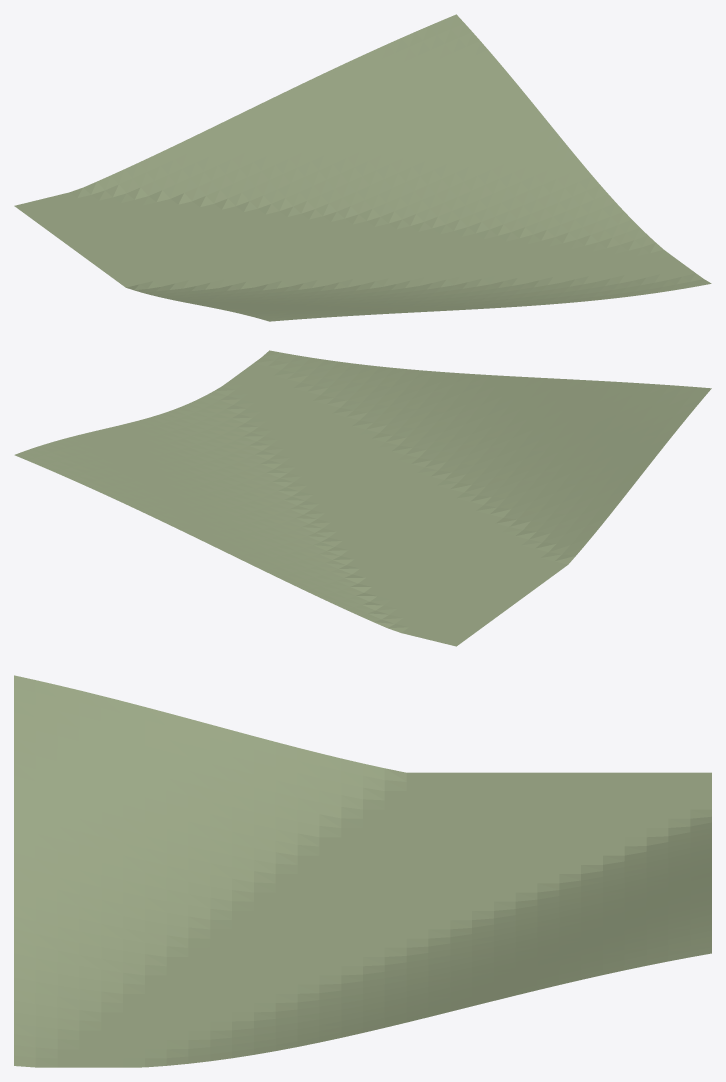
The model's file is expanse-5-6.glb.
3 views of the same model, one above another, from view 1: azimuth 30°, elevation 25°; view 2: azimuth 150°, elevation 25°; view 3: azimuth 270°, elevation 25° (orthographic). The views are drawn at different scales.
Parts seen in each view (by area): view 1: expanse-5-6; view 2: expanse-5-6; view 3: expanse-5-6.
Part boxes in pixels (x1=…): expanse-5-6: x1=14, y1=14, x2=711, y2=321; expanse-5-6: x1=14, y1=350, x2=711, y2=646; expanse-5-6: x1=14, y1=675, x2=711, y2=1067.
Bounding box in the file's own units: 256 × 46.21 × 256.
